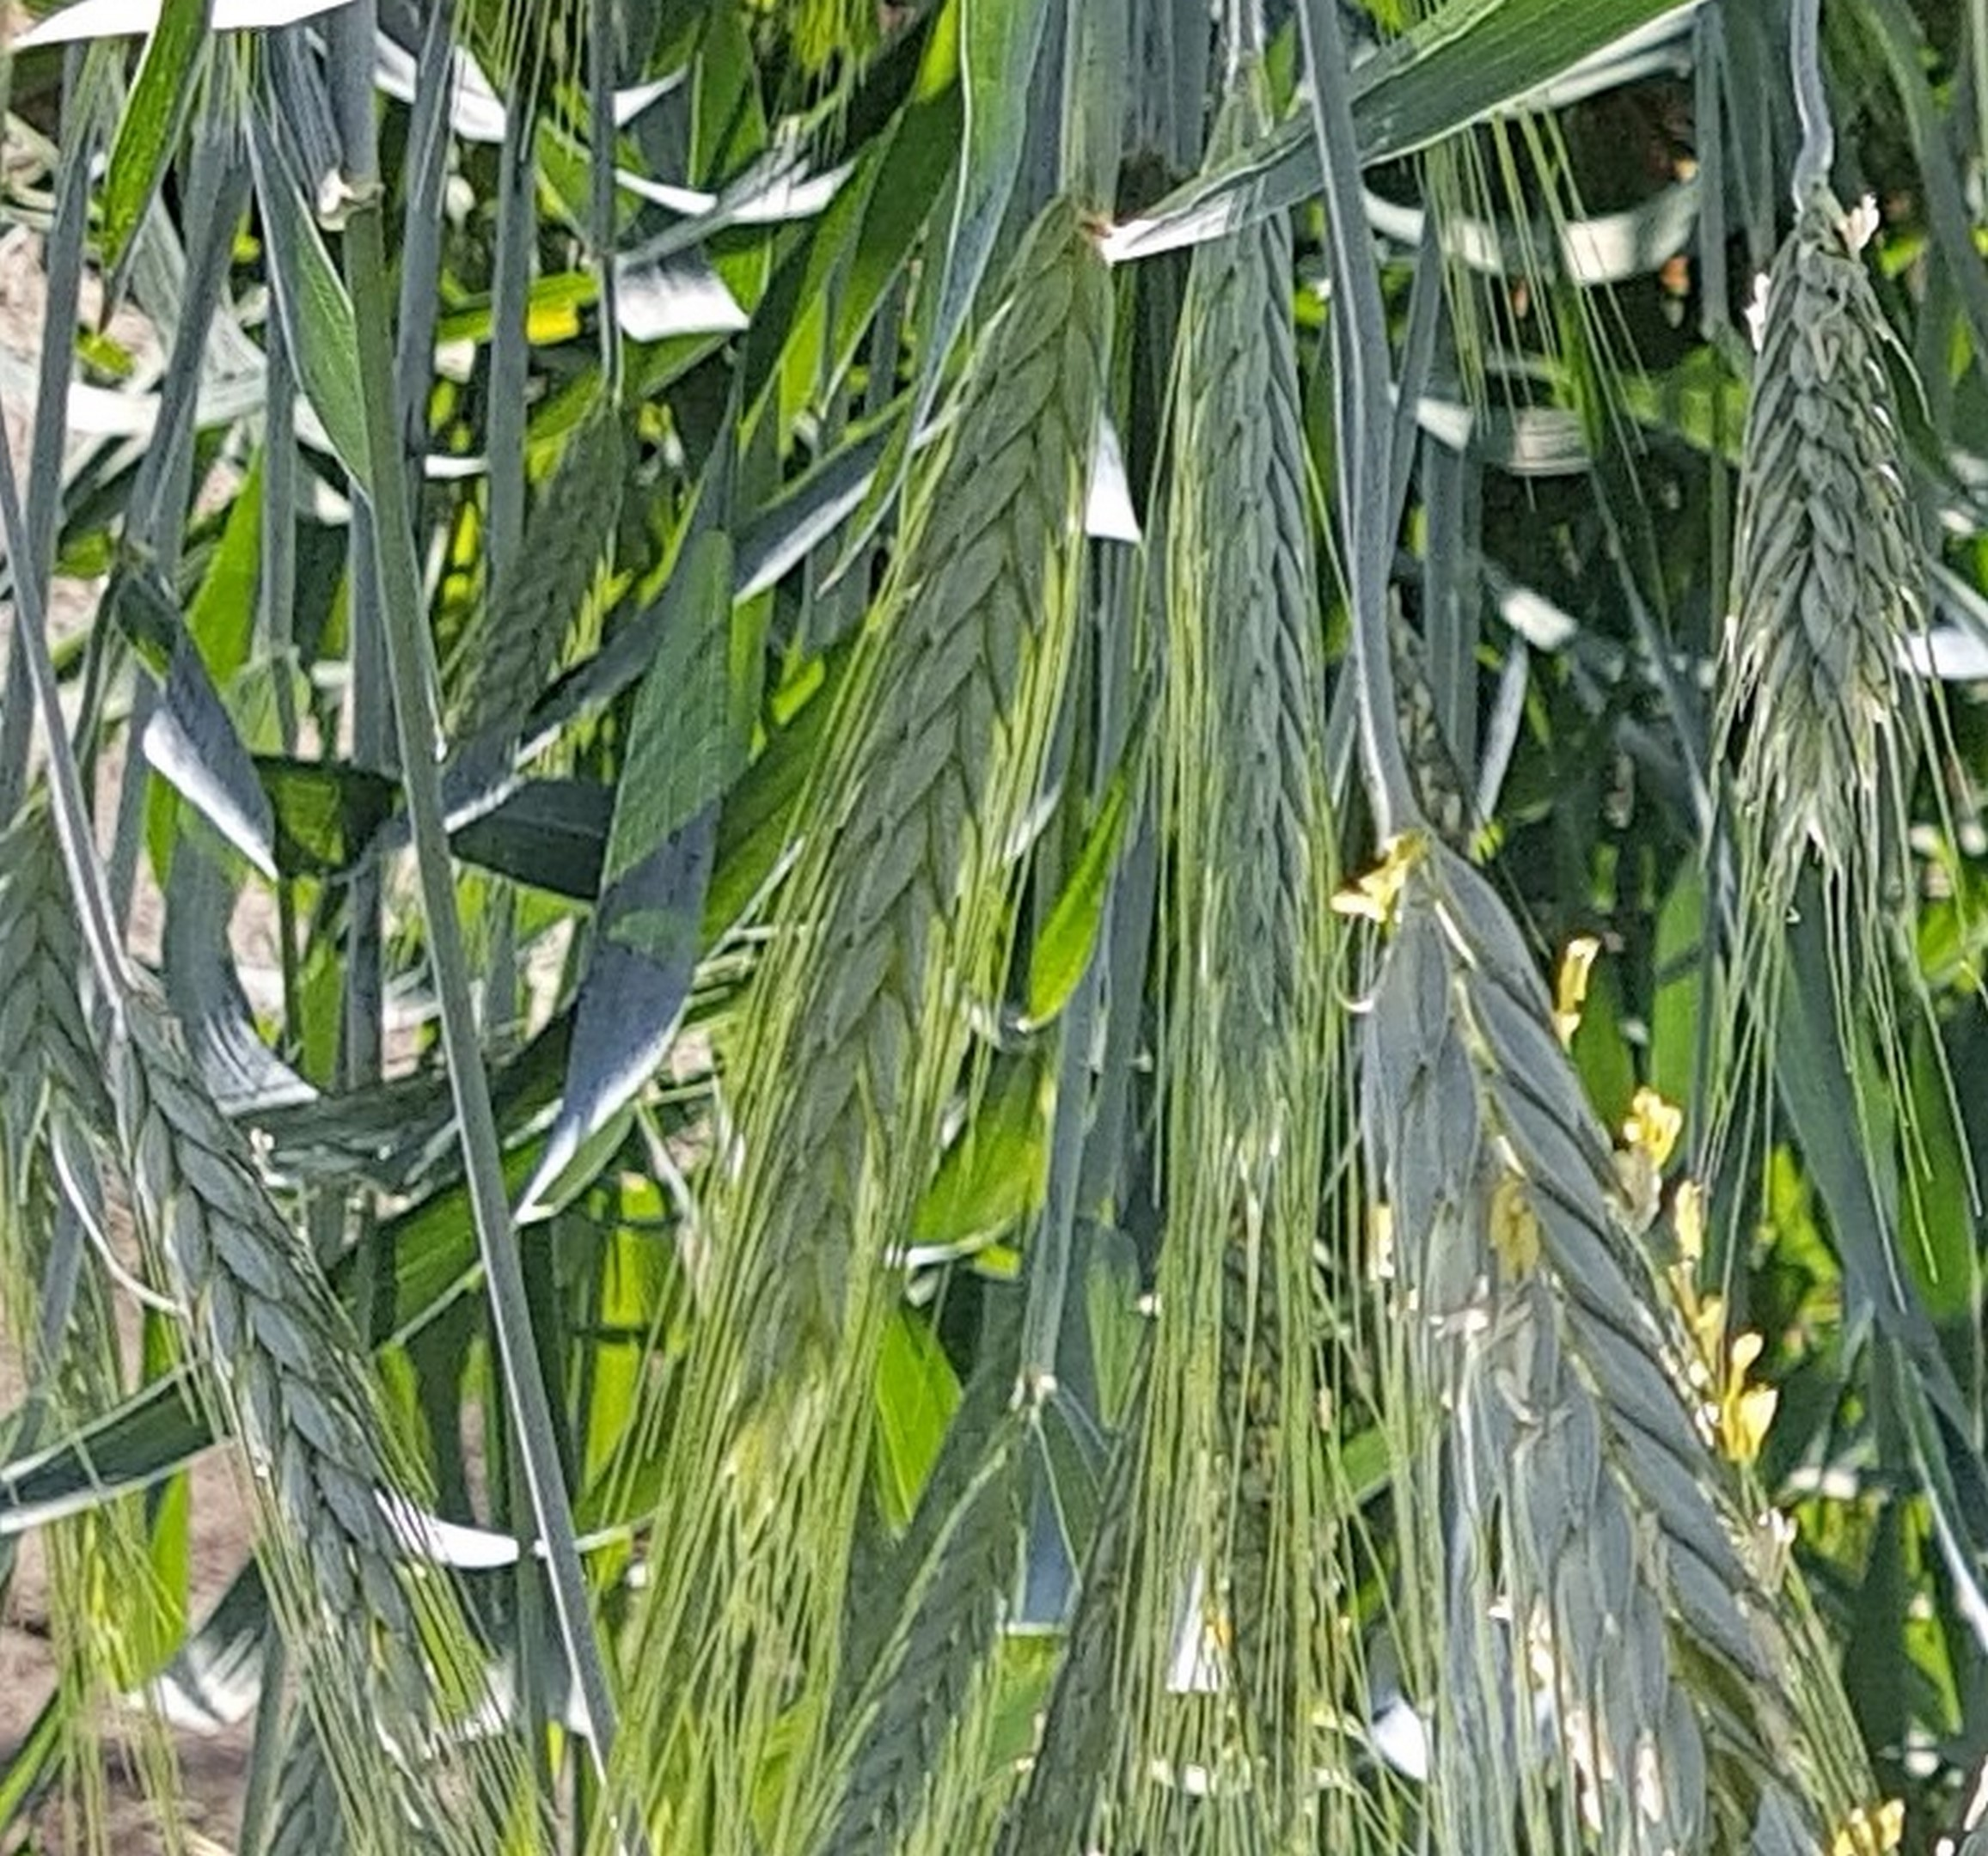Healthy Wheat: (670, 192, 1145, 1427), (99, 1010, 492, 1764), (1697, 174, 1988, 874)
